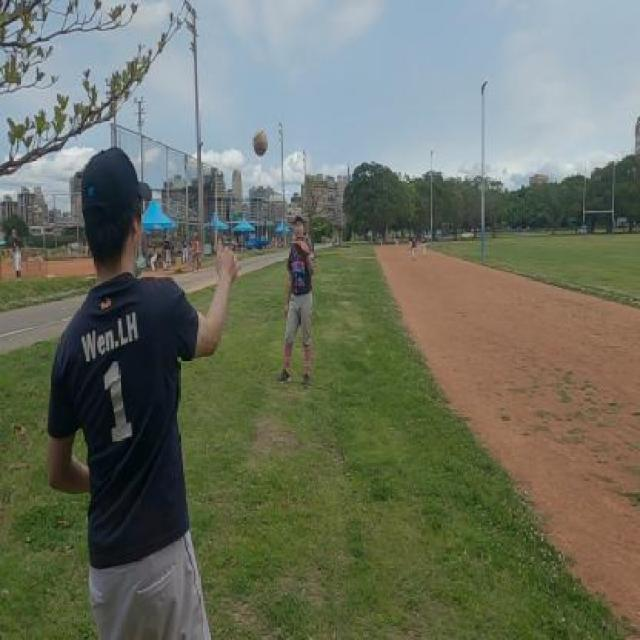baseball: (252, 129, 268, 156)
